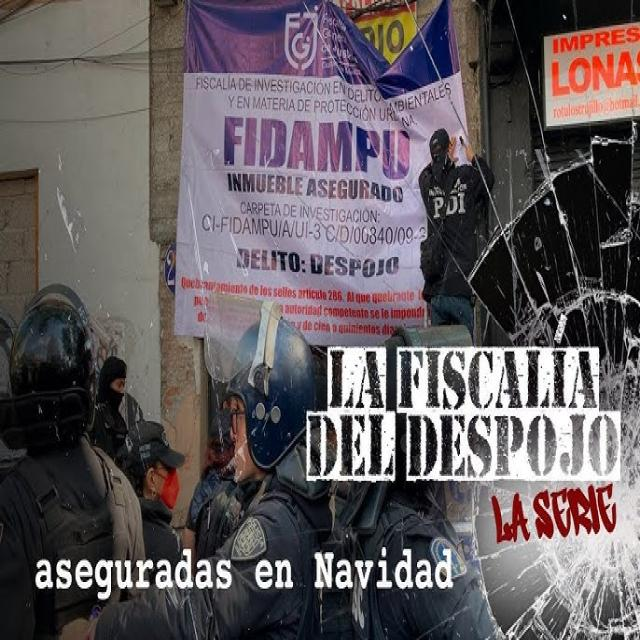stamps: (175, 0, 462, 345)
